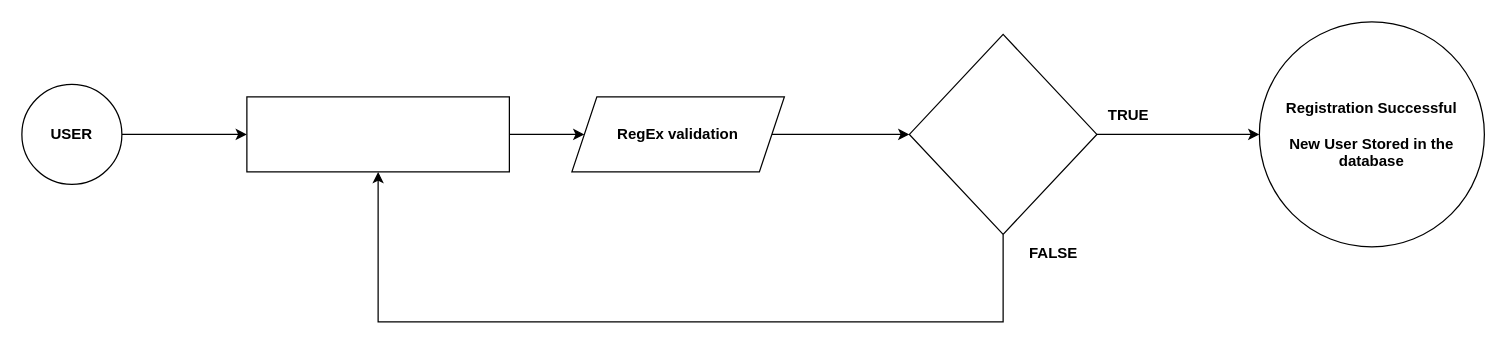
The diagram is 1506 pixels wide and 354 high, and some of its shapes have lost their labels. Here are the shapes that lost their labels. From the top down, the centre of each, then its label:
the point at 377,134: ENTER EMAIL,NAME & PASSWORD
the point at 1002,133: If Validation Successfull
